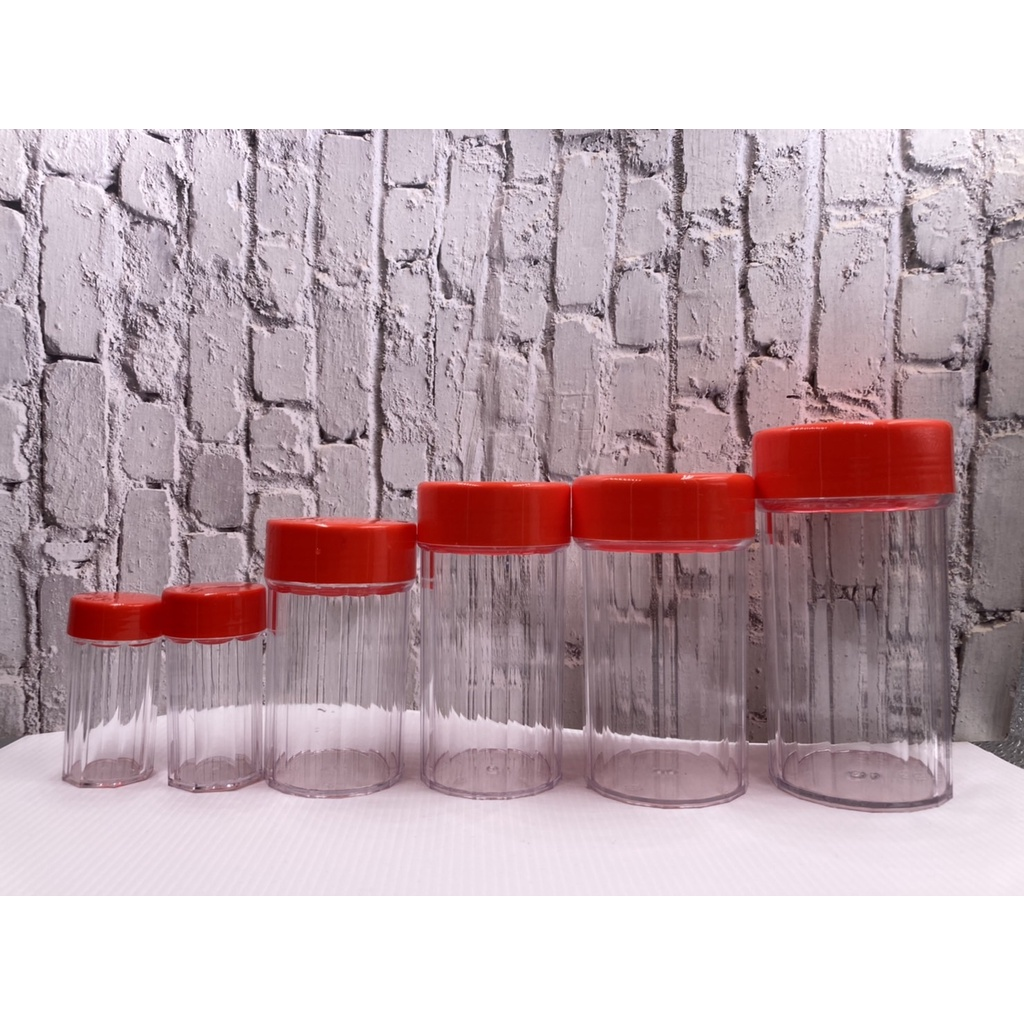medicinejar: (739, 415, 987, 801), (570, 466, 768, 798), (421, 461, 567, 801), (263, 510, 424, 803), (151, 581, 275, 796), (53, 584, 162, 798)
